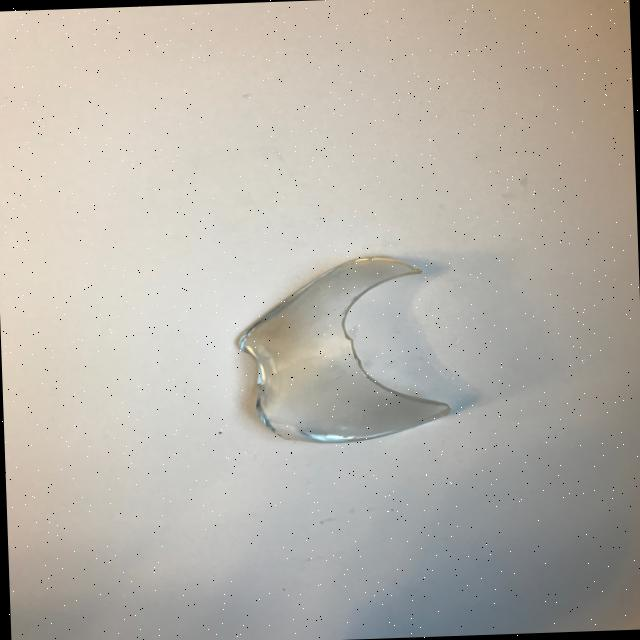glass: (233, 252, 453, 446)
